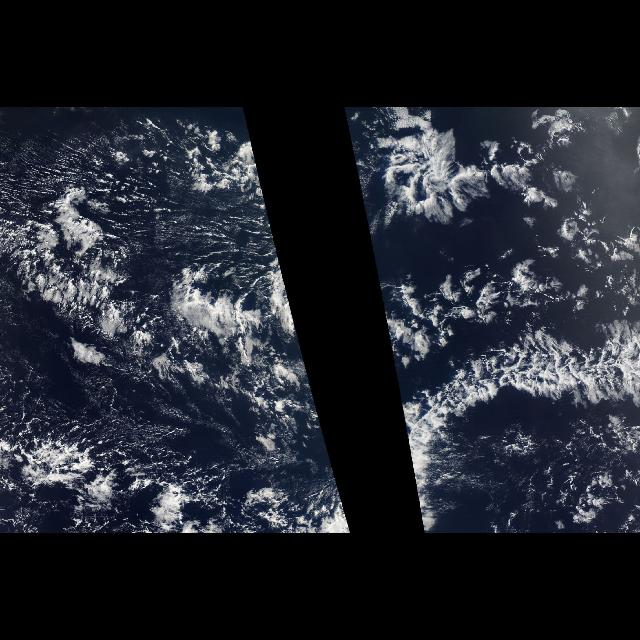Fish: (383, 313, 639, 509), (0, 222, 152, 366)
Gravel: (13, 127, 295, 513)
